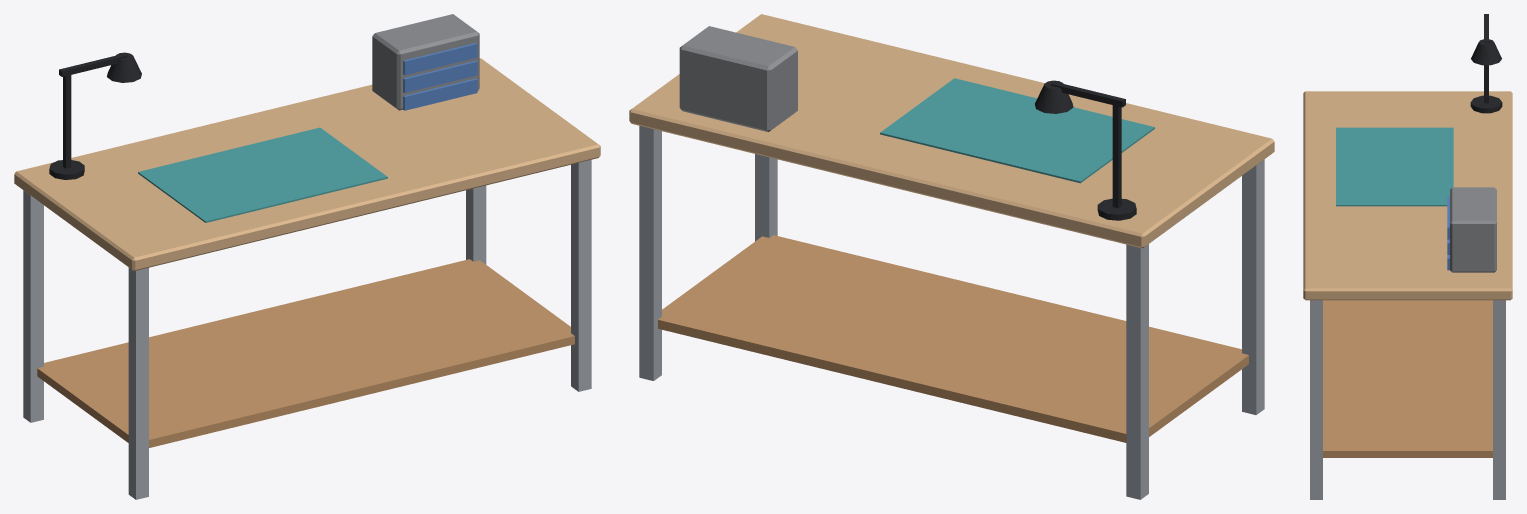
File: workbench_repair.glb
The picture shows the model from 3 angles, left to right: view 1: azimuth 30°, elevation 25°; view 2: azimuth 150°, elevation 25°; view 3: azimuth 270°, elevation 25°; orthographic projection. The views are drawn at different scales.
Parts seen in each view (by area): view 1: workbench_repair; view 2: workbench_repair; view 3: workbench_repair.
Part boxes in pixels (box(x1,y1,x2,y2)): workbench_repair: box(14, 14, 600, 499); workbench_repair: box(629, 14, 1274, 499); workbench_repair: box(1303, 14, 1512, 499).
Bounding box in the file's own units: 1.8 × 1.28 × 0.8.
Materials: 1 (1 with a texture image).
